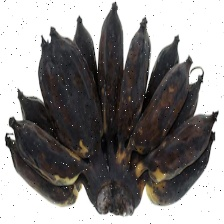banana: (32, 53, 191, 208)
